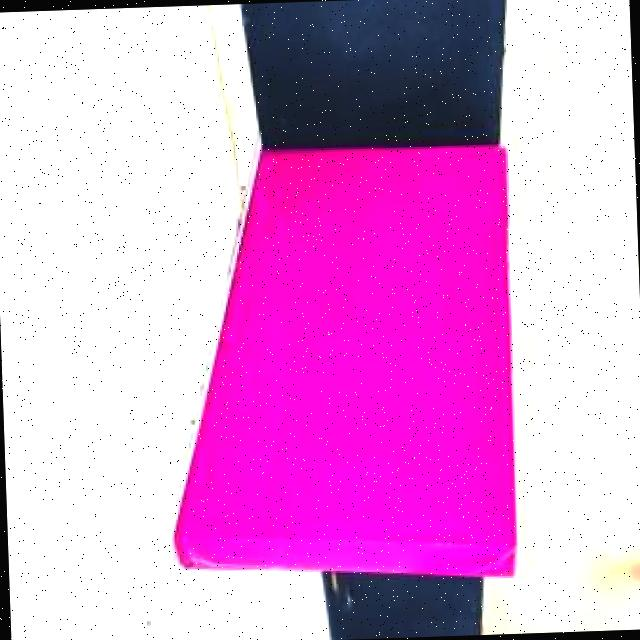xparking: (227, 143, 516, 582)
